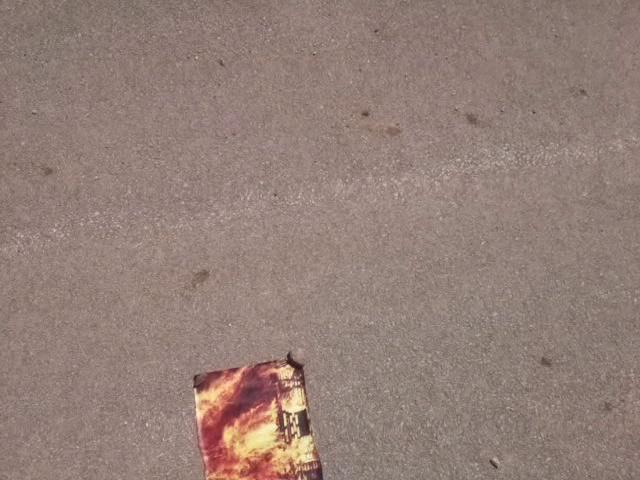fire-poster: (189, 349, 326, 479)
